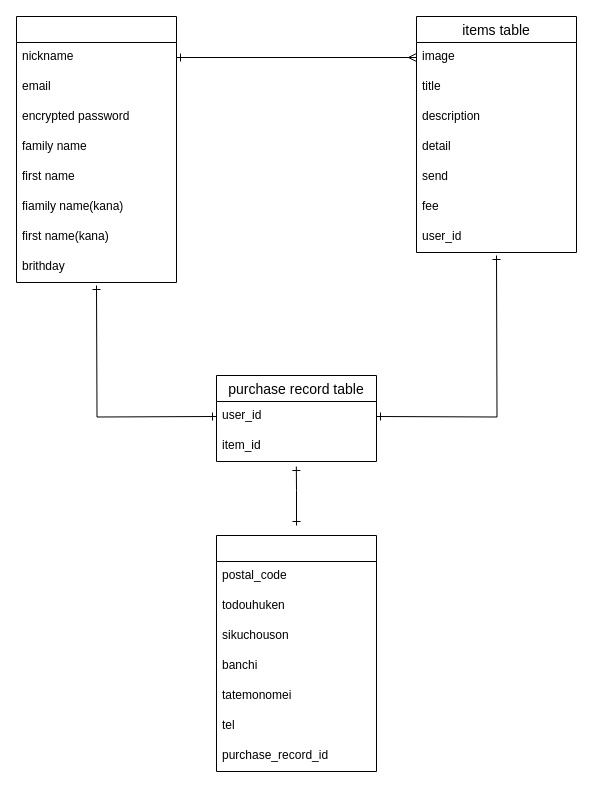
Image size: 593x788. Some labels were removed from this diagram. The box of each missing label's shape, as (x1, y1, x2, y2) in pixels:
address table: (216, 534, 376, 772)
users table: (16, 16, 176, 282)
